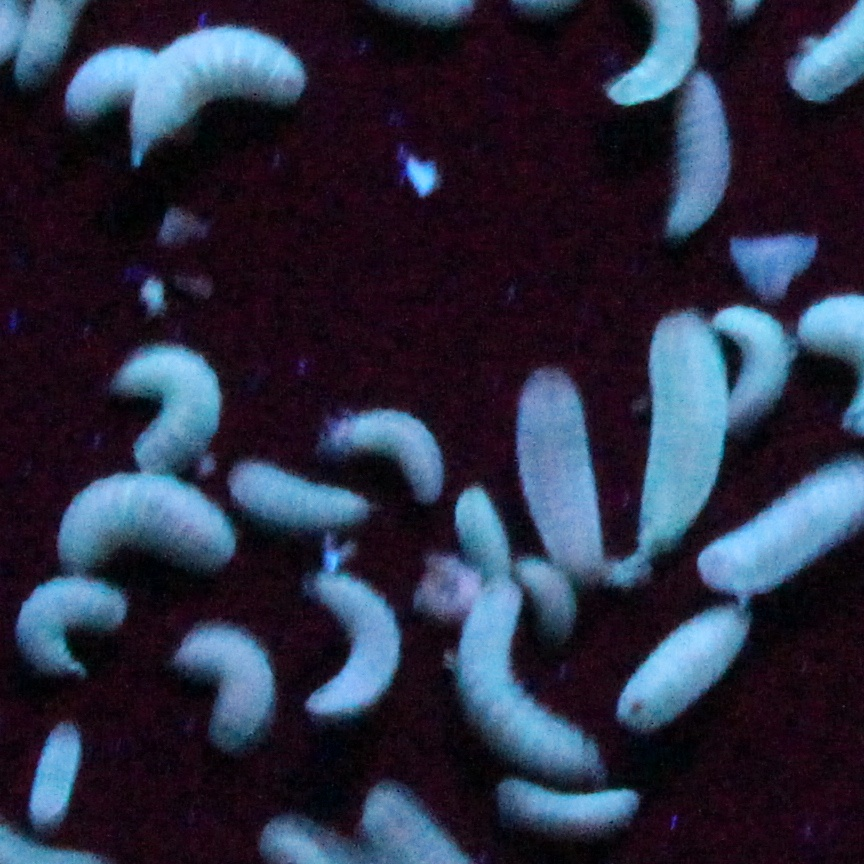larve: (468, 576, 601, 769), (124, 26, 306, 159), (637, 311, 729, 553), (512, 365, 612, 580), (56, 476, 245, 567), (108, 340, 222, 473), (620, 609, 749, 719), (308, 567, 401, 717), (320, 409, 451, 503), (183, 628, 279, 751), (12, 578, 126, 680), (714, 303, 793, 440), (233, 457, 372, 532), (674, 63, 726, 234), (504, 776, 641, 836), (29, 726, 85, 832), (524, 555, 583, 638)
